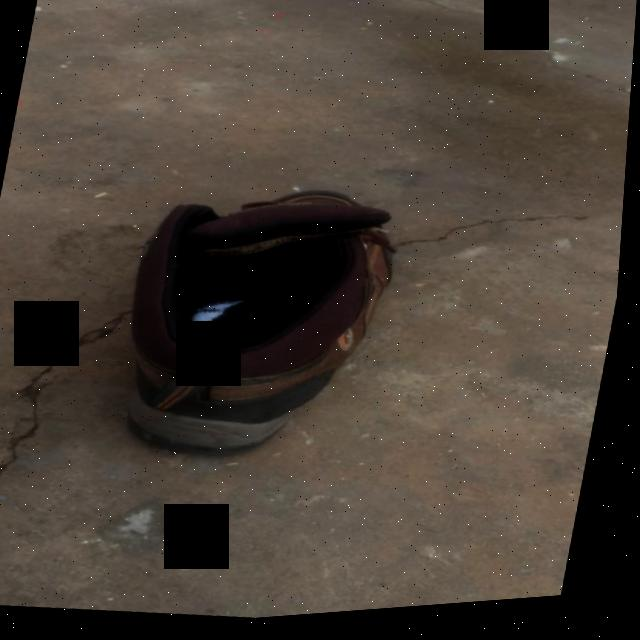shoe: (105, 166, 412, 484)
